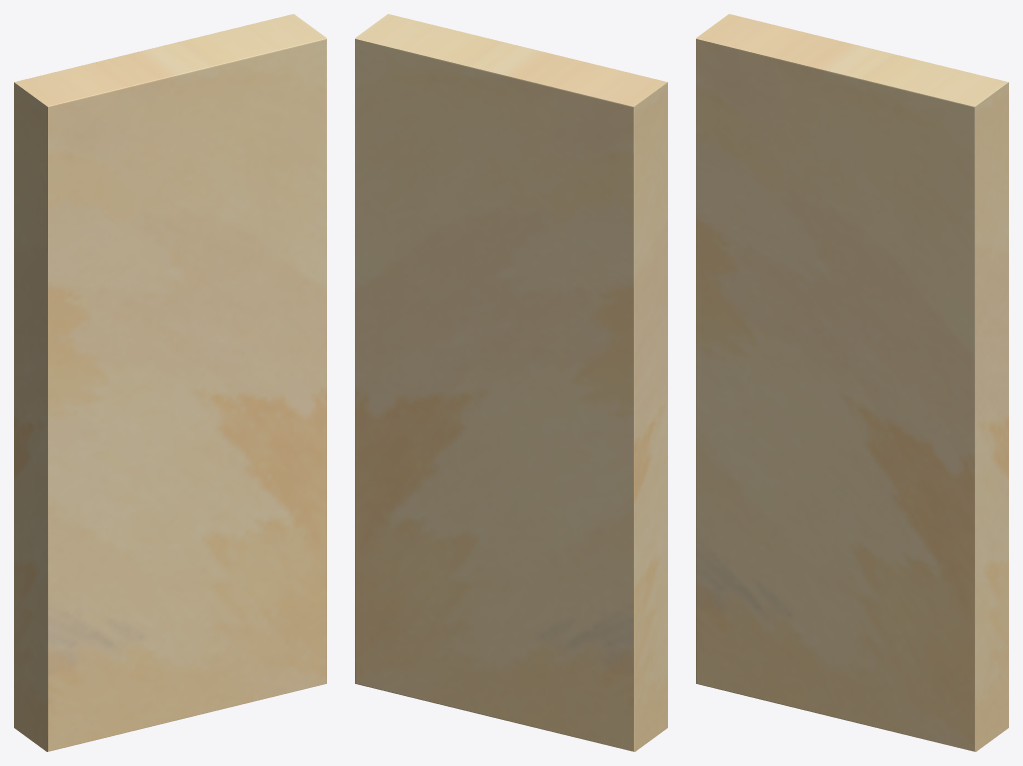
File: CM_FacadeBay01_Plain_1p5m.fbx
The picture shows the model from 3 angles, left to right: view 1: azimuth 30°, elevation 25°; view 2: azimuth 150°, elevation 25°; view 3: azimuth 330°, elevation 25°; orthographic projection.
Parts seen in each view (by area): view 1: CM_FacadeBay01_Plain_1p5m_Plaster; view 2: CM_FacadeBay01_Plain_1p5m_Plaster; view 3: CM_FacadeBay01_Plain_1p5m_Plaster.
Boxes of the visible parts, x1=… form: CM_FacadeBay01_Plain_1p5m_Plaster: x1=14, y1=14, x2=326, y2=751; CM_FacadeBay01_Plain_1p5m_Plaster: x1=355, y1=14, x2=667, y2=751; CM_FacadeBay01_Plain_1p5m_Plaster: x1=696, y1=14, x2=1008, y2=751.
Bounding box in the file's own units: 1.32 × 2.91 × 0.28.
